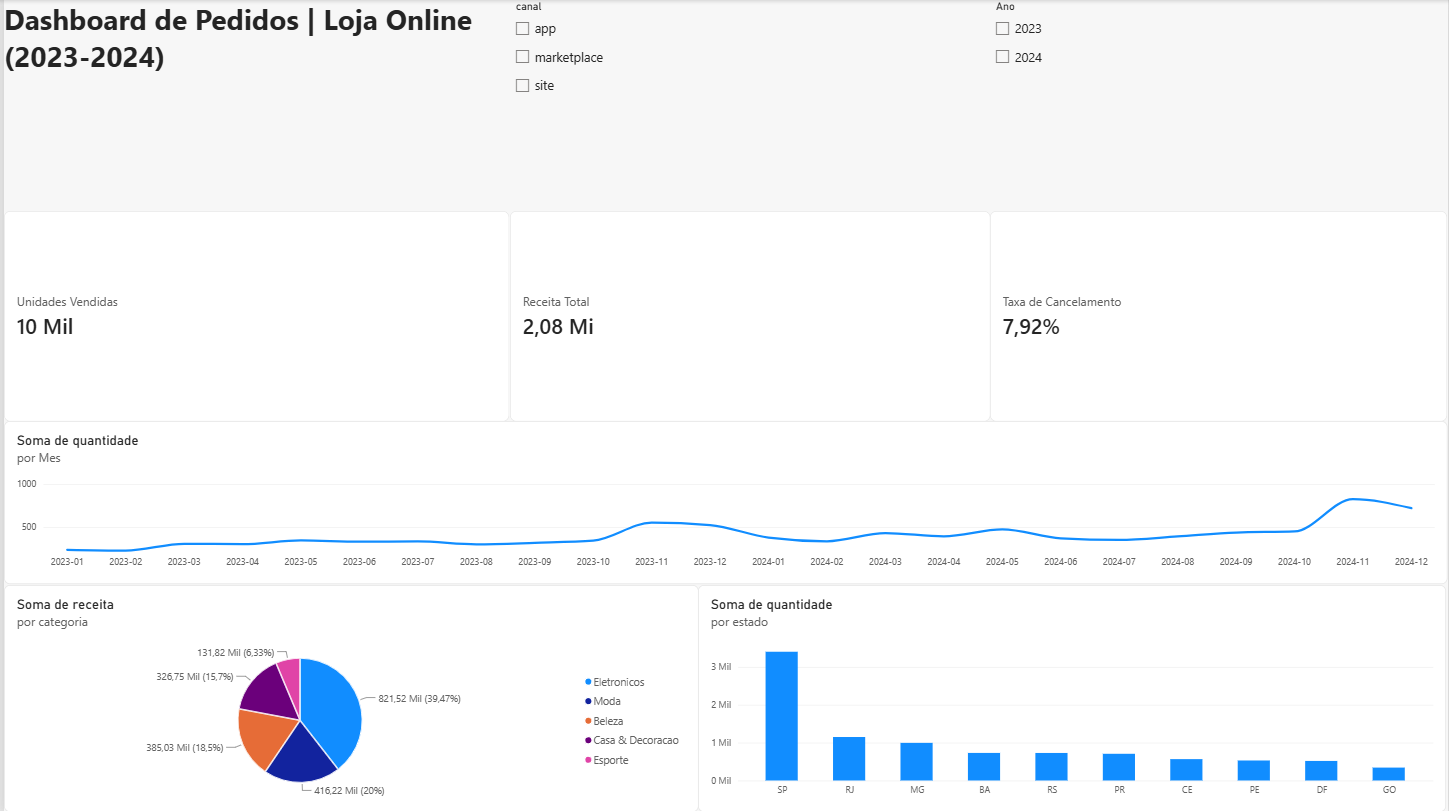

What the dashboard file says about the page in this screenshot:
{"tool":"powerbi","page":{"name":"Página 1","canvas":[1920,1080],"ordinal":0},"visuals":[{"type":"cardVisual","fields":{"Data":["Sum(pedidos_limpos.receita)"]},"box":[672.6,280.1,639,280.1],"z":0},{"type":"cardVisual","fields":{"Data":["Sum(pedidos_limpos.quantidade)"]},"box":[0,280.1,672.6,280.1],"z":1000},{"type":"cardVisual","fields":{"Data":["pedidos_limpos.Taxa de Cancelamento"]},"box":[1311.6,280.1,608.4,280.1],"z":2000},{"type":"lineChart","fields":{"Category":["pedidos_limpos.Mes"],"Y":["Sum(pedidos_limpos.quantidade)"]},"box":[0,560.2,1920,217.4],"z":3000},{"type":"pieChart","fields":{"Category":["pedidos_limpos.categoria"],"Y":["Sum(pedidos_limpos.receita)"]},"box":[0,777.6,923.5,302],"z":3001},{"type":"columnChart","fields":{"Category":["pedidos_limpos.estado"],"Y":["Sum(pedidos_limpos.quantidade)"]},"box":[923.5,777.6,995,302],"z":3002},{"type":"slicer","fields":{"Values":["pedidos_limpos.canal"]},"box":[672.6,0,639,280.1],"z":3003},{"type":"slicer","fields":{"Values":["pedidos_limpos.Ano"]},"box":[1311.6,0,606.9,280.1],"z":3004},{"type":"textbox","box":[0,0,673,280],"z":3005}]}

Visuals, with their boxes in screenshot pixels (x1, y1, x2, y2), scaled from the page's 1920x1080 canvas onto the 1449x811 screenshot:
cardVisual - Sum(pedidos_limpos.receita): bbox=(508, 210, 990, 421)
cardVisual - Sum(pedidos_limpos.quantidade): bbox=(0, 210, 508, 421)
cardVisual - pedidos_limpos.Taxa de Cancelamento: bbox=(990, 210, 1448, 421)
lineChart - pedidos_limpos.Mes x Sum(pedidos_limpos.quantidade): bbox=(0, 421, 1448, 584)
pieChart - pedidos_limpos.categoria x Sum(pedidos_limpos.receita): bbox=(0, 584, 697, 810)
columnChart - pedidos_limpos.estado x Sum(pedidos_limpos.quantidade): bbox=(697, 584, 1448, 810)
slicer - pedidos_limpos.canal: bbox=(508, 0, 990, 210)
slicer - pedidos_limpos.Ano: bbox=(990, 0, 1448, 210)
textbox: bbox=(0, 0, 508, 210)
